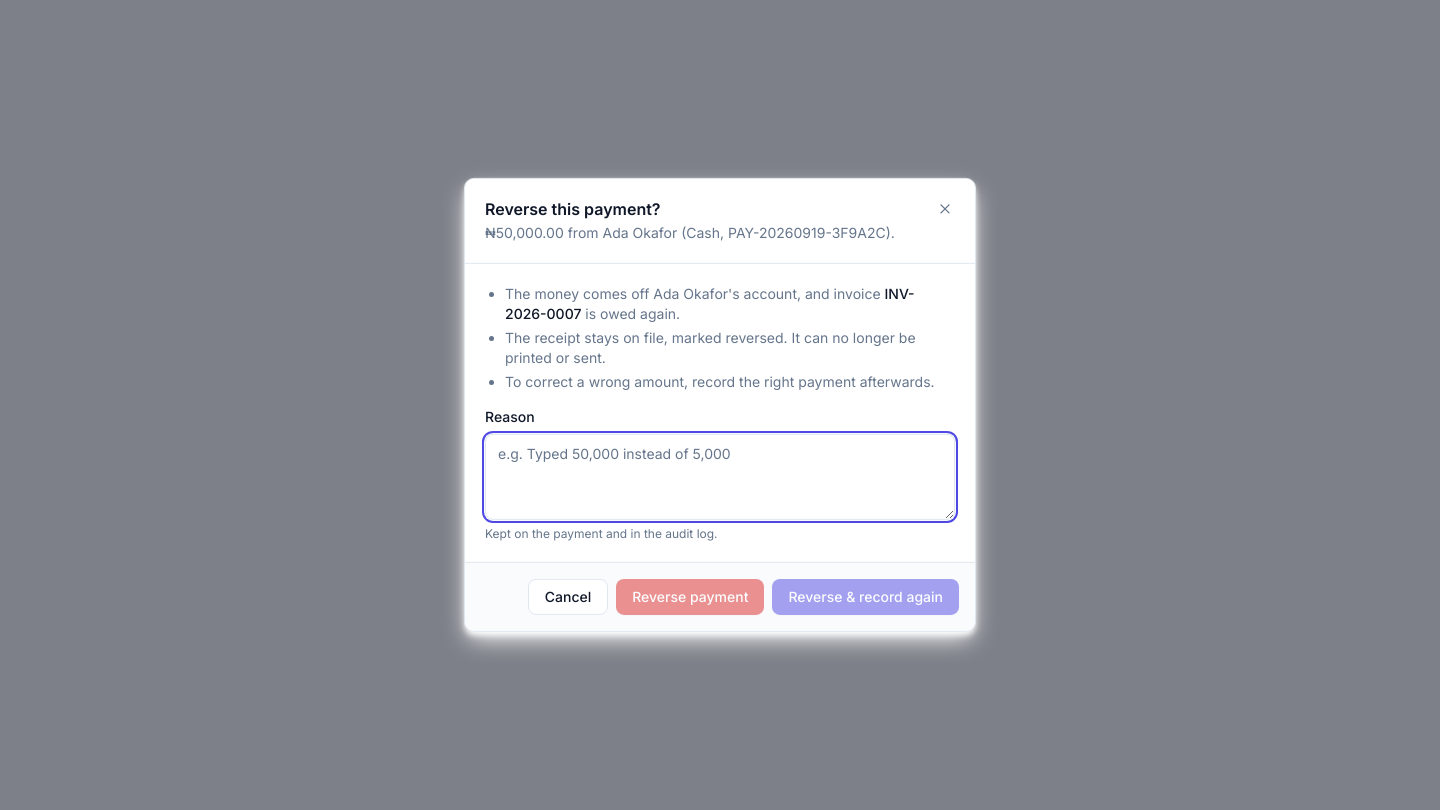
Test: ReversePaymentDialog › will not reverse until a reason has been given
The width and height of the screenshot is (1440, 810).
Expected: the button "Reverse payment" is disabled, [616,579,764,615]
In the text box labelled "Reason": (720, 477) [485,434,955,520], type "ab"
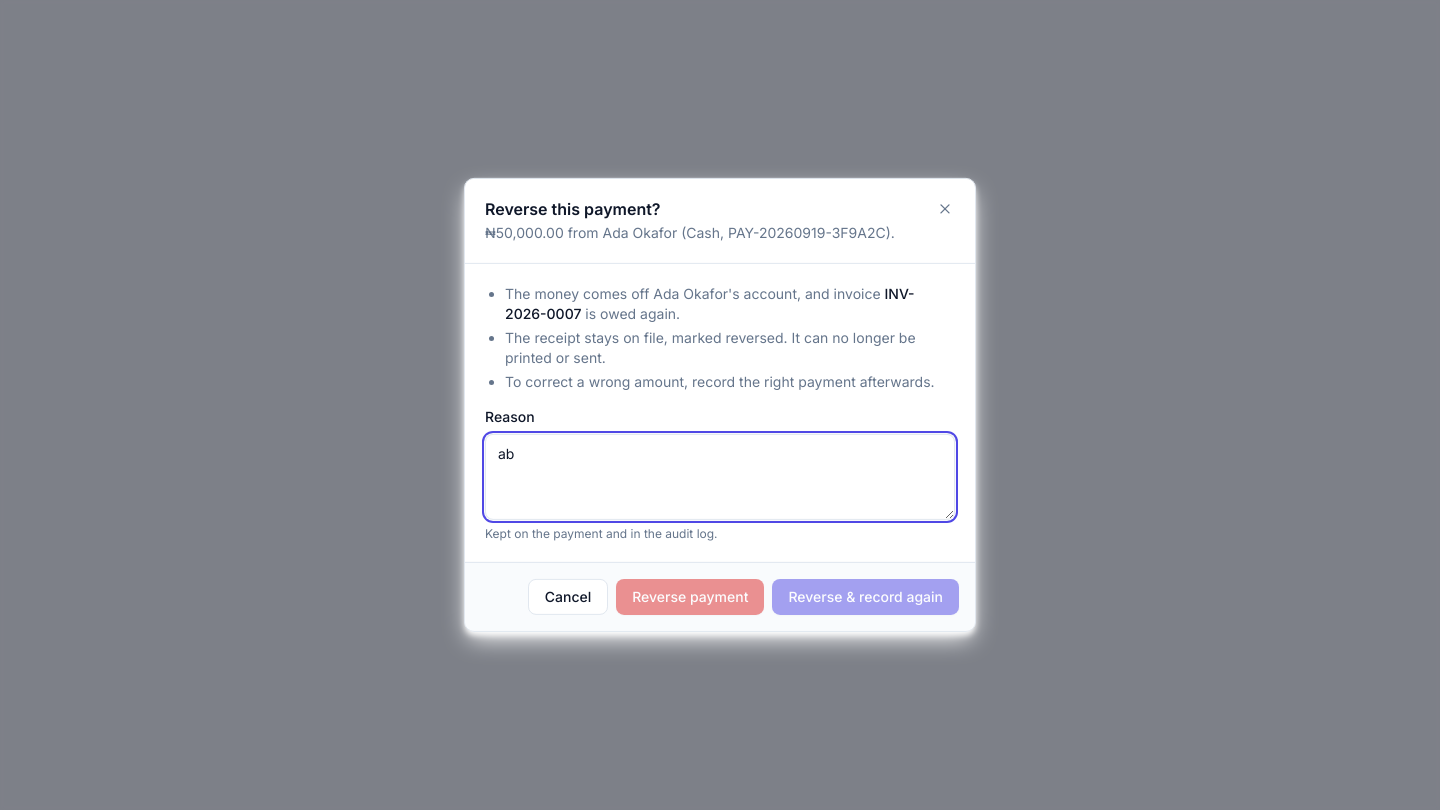
Expected: the button "Reverse payment" is disabled, [616,579,764,615]
In the text box labelled "Reason": (720, 477) [485,434,955,520], type "c"
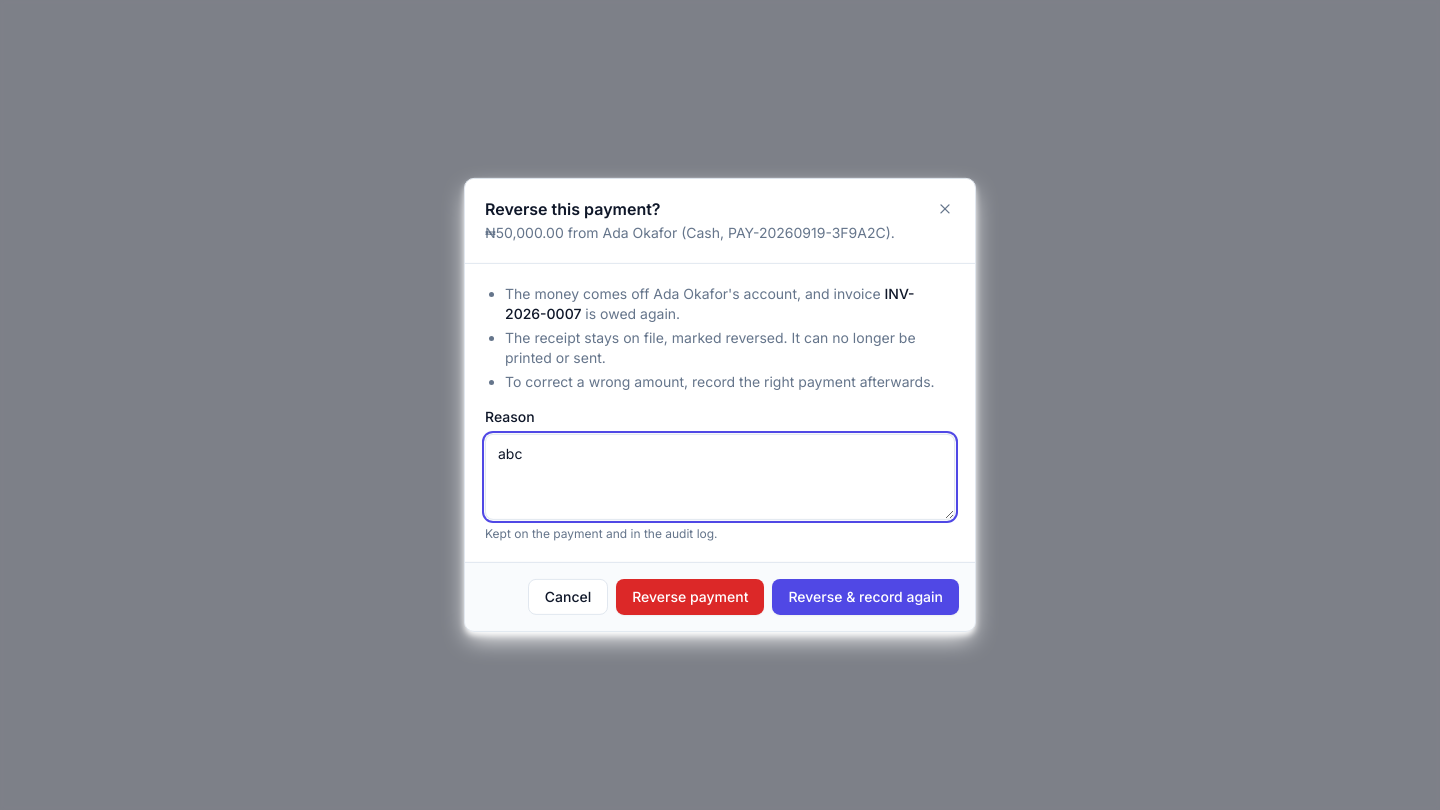
Expected: the button "Reverse payment" is enabled, [616,579,764,615]
